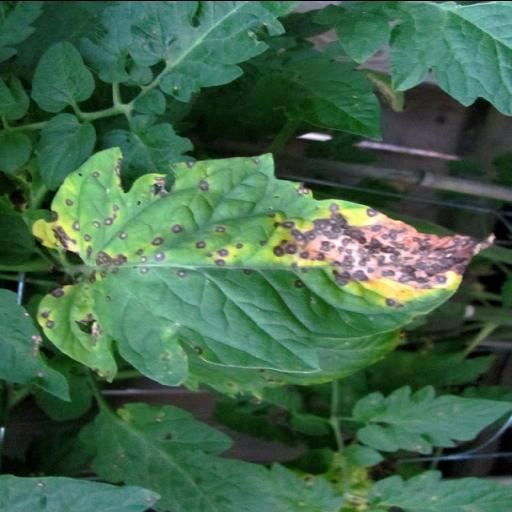Septoria: (19, 144, 495, 395)
